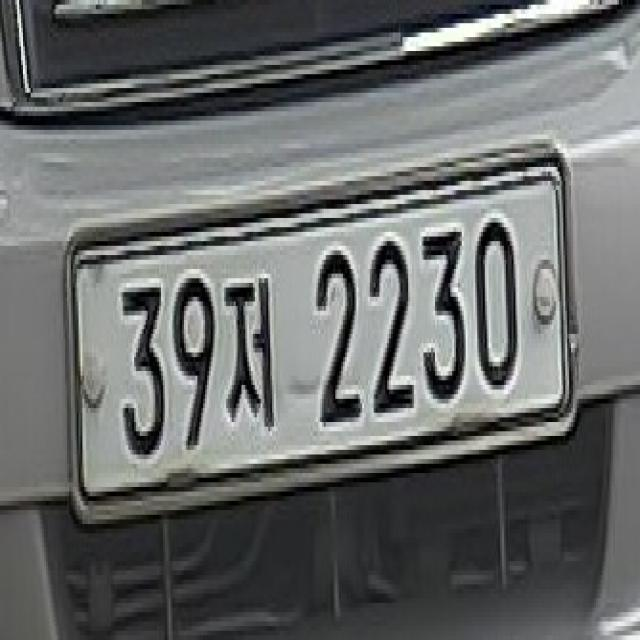0: (472, 209, 520, 394)
2: (312, 246, 362, 431), (366, 232, 416, 417)
3: (117, 274, 167, 459), (420, 222, 466, 404)
9: (170, 269, 217, 450)
jeo: (220, 264, 278, 432)
license_plate: (67, 148, 579, 520)
